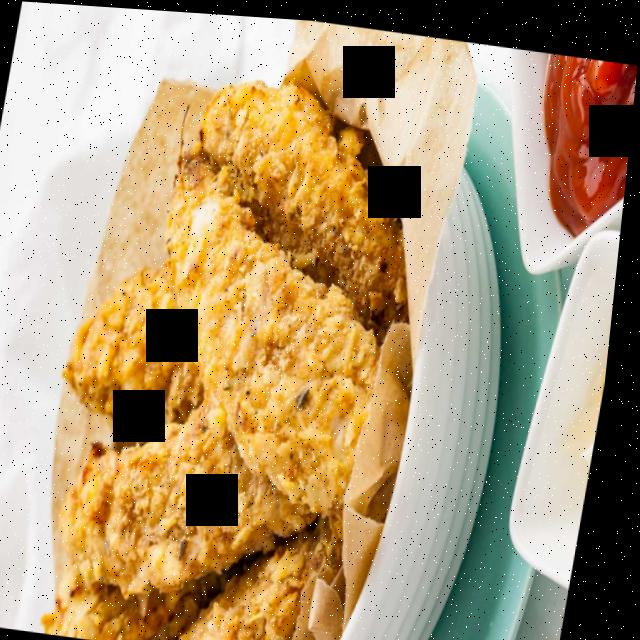Frango: (33, 55, 462, 640)
